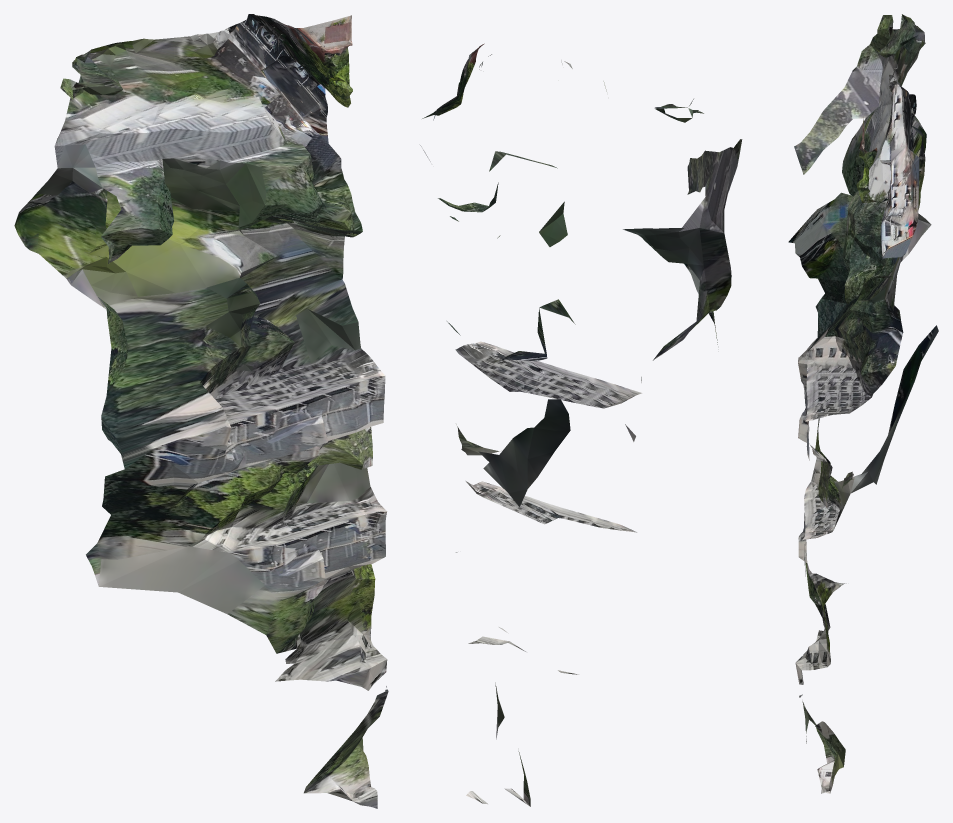
File: Tile_+000_+002.glb
The picture shows the model from 3 angles, left to right: view 1: azimuth 30°, elevation 25°; view 2: azimuth 150°, elevation 25°; view 3: azimuth 270°, elevation 25°; orthographic projection. The views are drawn at different scales.
Parts seen in each view (by area): view 1: Node; view 2: Node; view 3: Node.
Boxes of the visible parts, x1,y1,x2,y2 form: Node: (14, 14, 388, 808); Node: (420, 43, 742, 806); Node: (788, 14, 938, 793).
Size of the model in its own units: 76.79 by 187 by 37.32.
1 material, 1 textured.
